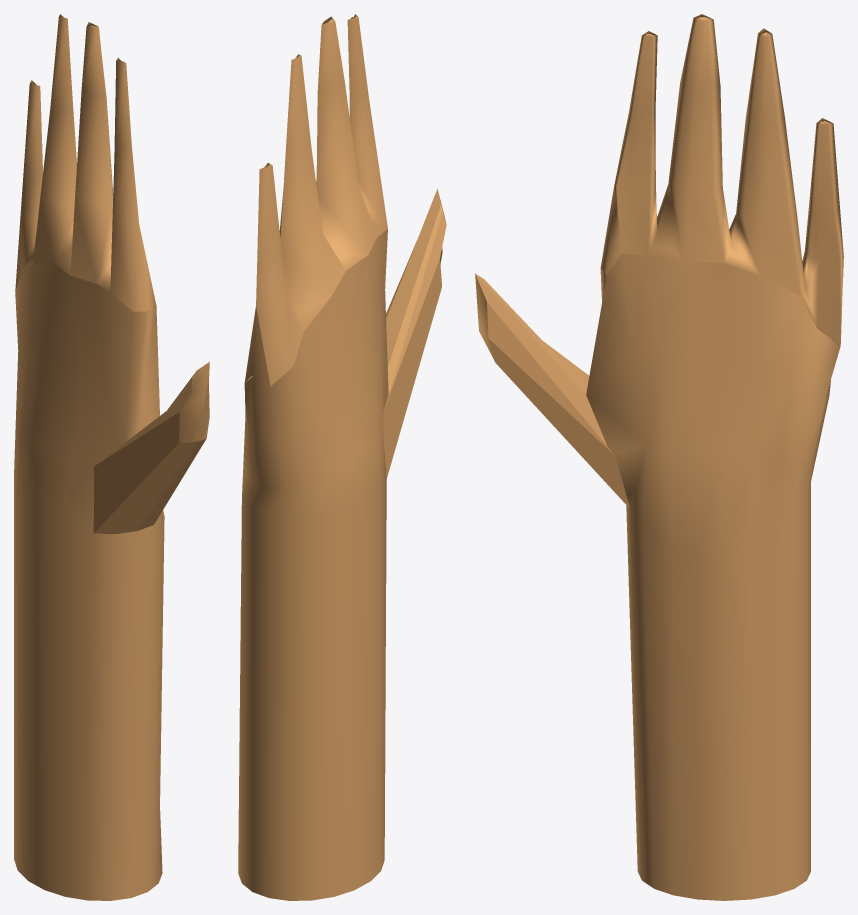
The model's file is Hand.fbx.
3 renders of one model, left to right at view 1: azimuth 30°, elevation 25°; view 2: azimuth 150°, elevation 25°; view 3: azimuth 270°, elevation 25°, orthographic.
Visible parts, largest first — view 1: pCylinder1; view 2: pCylinder1; view 3: pCylinder1.
Boxes of the visible parts, x1,y1,x2,y2 form: pCylinder1: (14,14,209,900); pCylinder1: (238,14,446,900); pCylinder1: (475,14,843,900).
Size of the model in its own units: 1.23 by 8.33 by 3.27.
